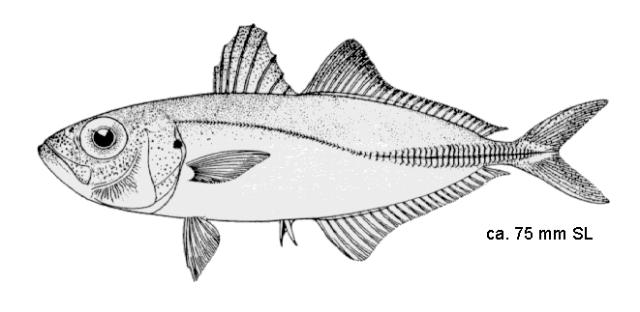Mulut: (29, 132, 97, 194)
Sirip Anal: (319, 168, 519, 264)
Sirip Dada: (186, 144, 280, 192)
Sirip Ekor: (516, 76, 616, 216)
Sirip Perut: (176, 211, 228, 284)
Sirip Punggung: (208, 17, 510, 139)
